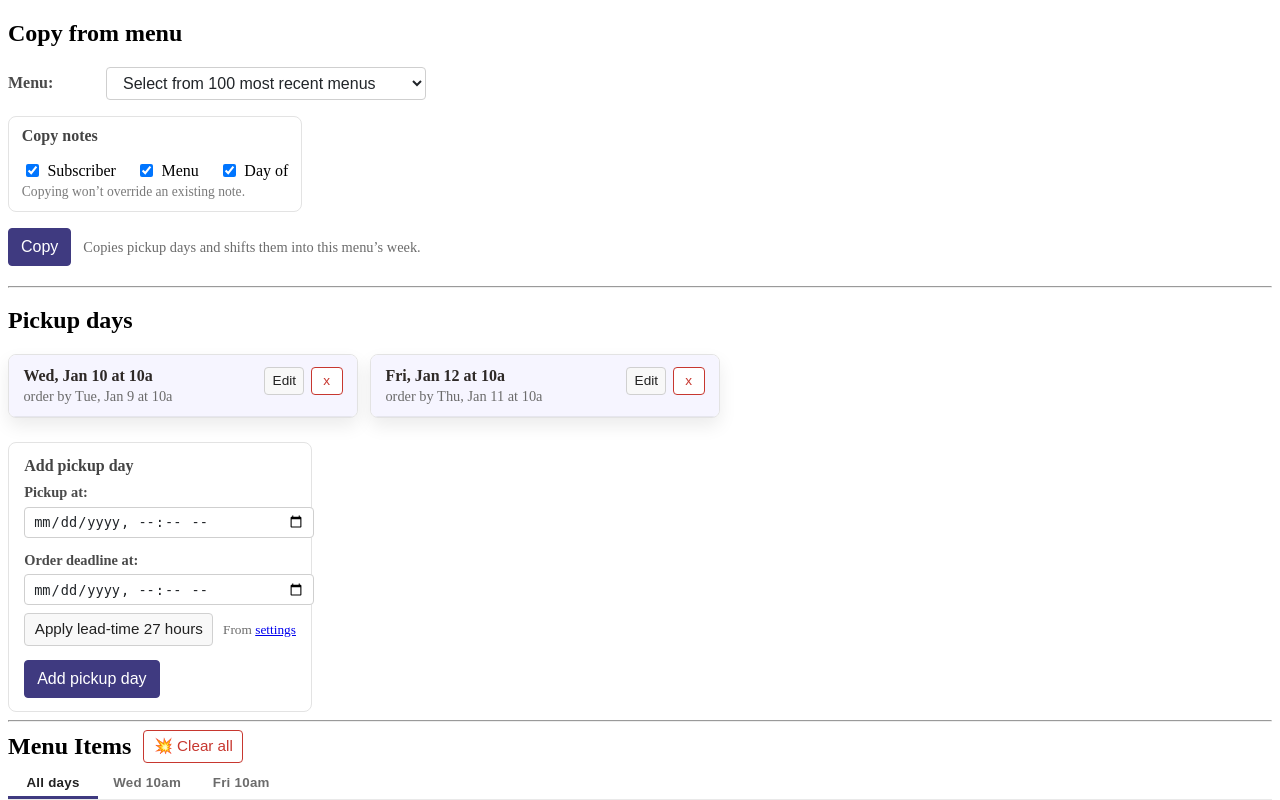
opens the pickup day editor right after a menu reload
Expected: the heading "Pickup days" is shown, [8,308,133,334]
Click the button "x" in the row of "Tue, Jan 9 at 10a". click: (327, 381)
box: [311,367,343,395]
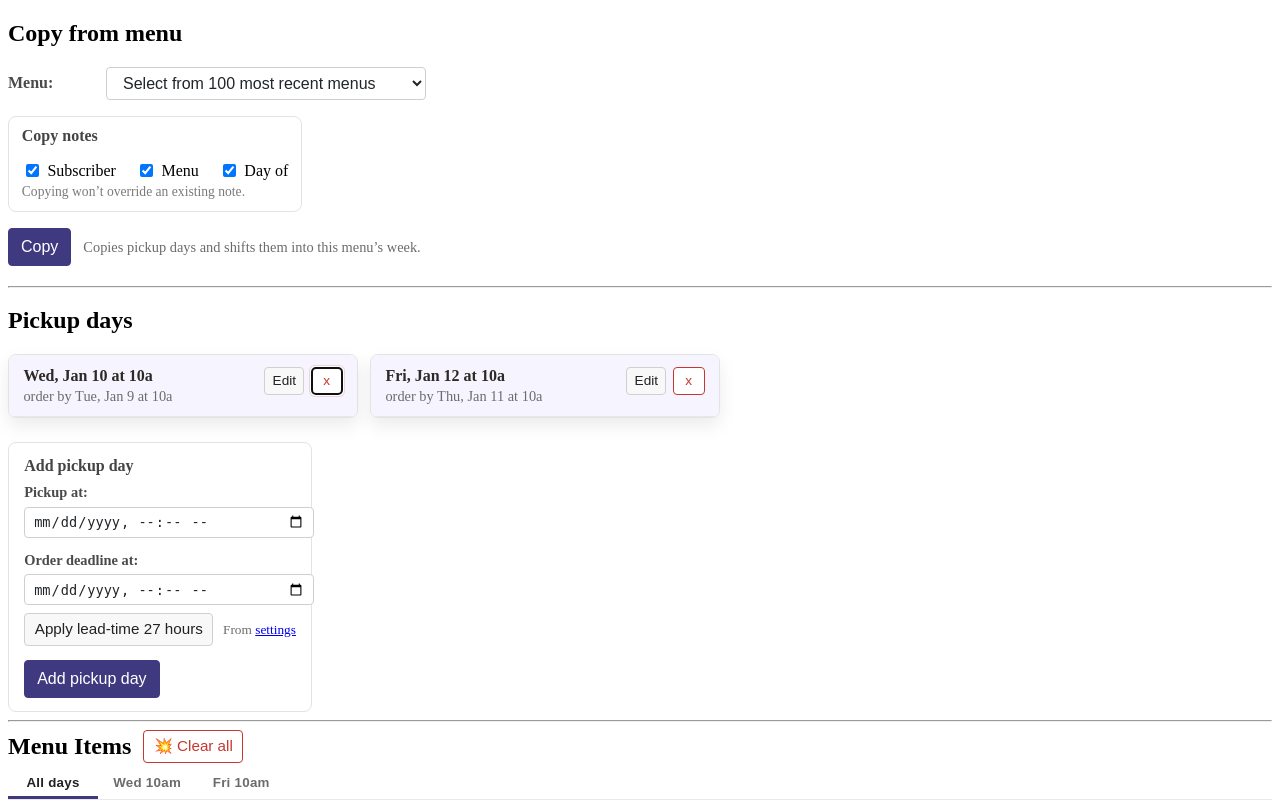
Click the button "Edit" next to "Tue, Jan 9 at 10a". click: (284, 381)
box: [264,367,304,395]
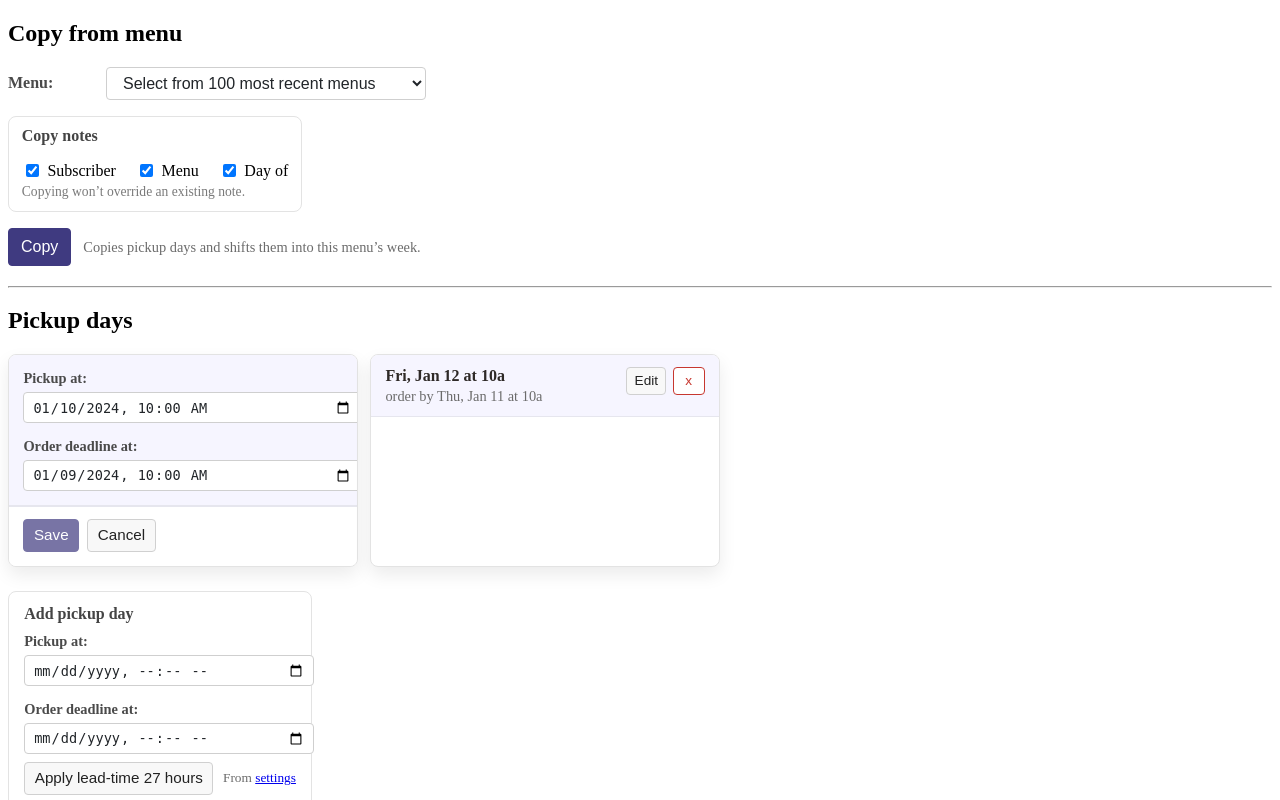
Now the field labelled "Pickup at:" next to "order by" is shown, box [23,392,358,423]
